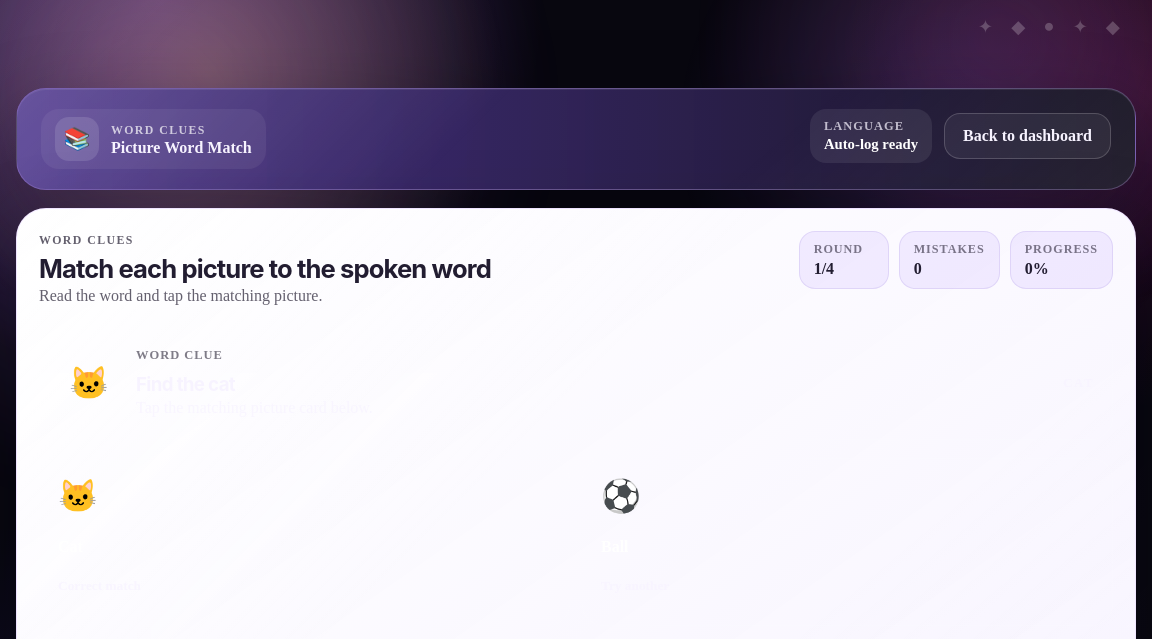
Test case: frontend smoke flows › opens the language game in a dedicated page and auto-logs on completion
Check: the text "Picture Word Match" is shown, box [111, 139, 252, 156]
Click the button "🐱 Cat Correct match".
click(78, 496)  # box [39, 458, 570, 626]
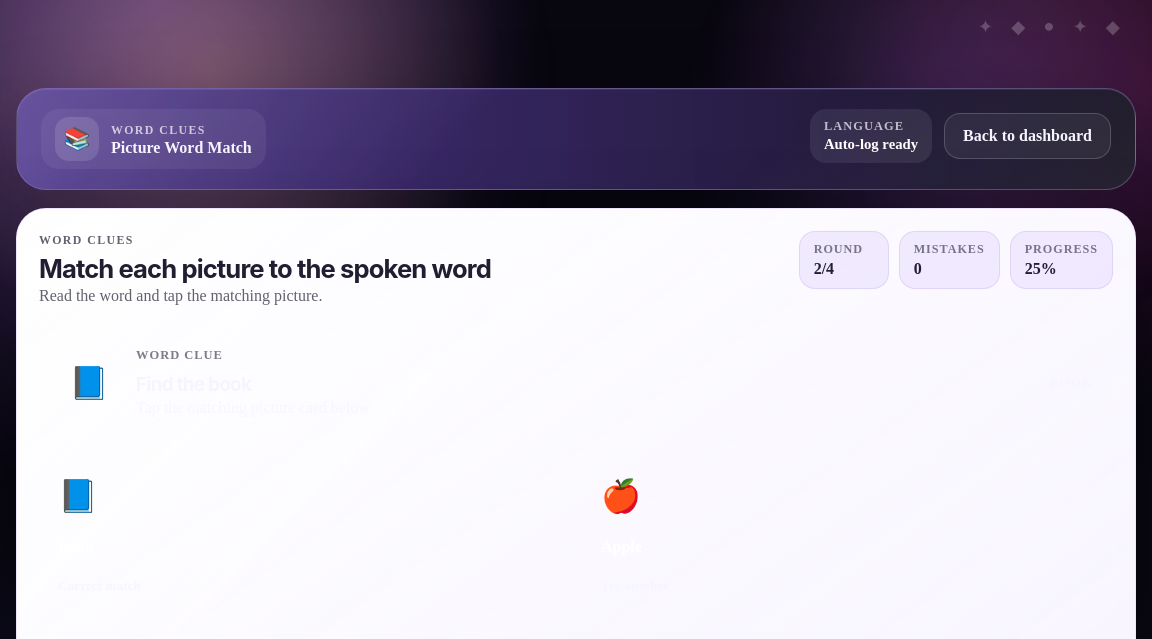
Click the button "📘 Book Correct match".
click(78, 496)  # box [39, 458, 570, 626]
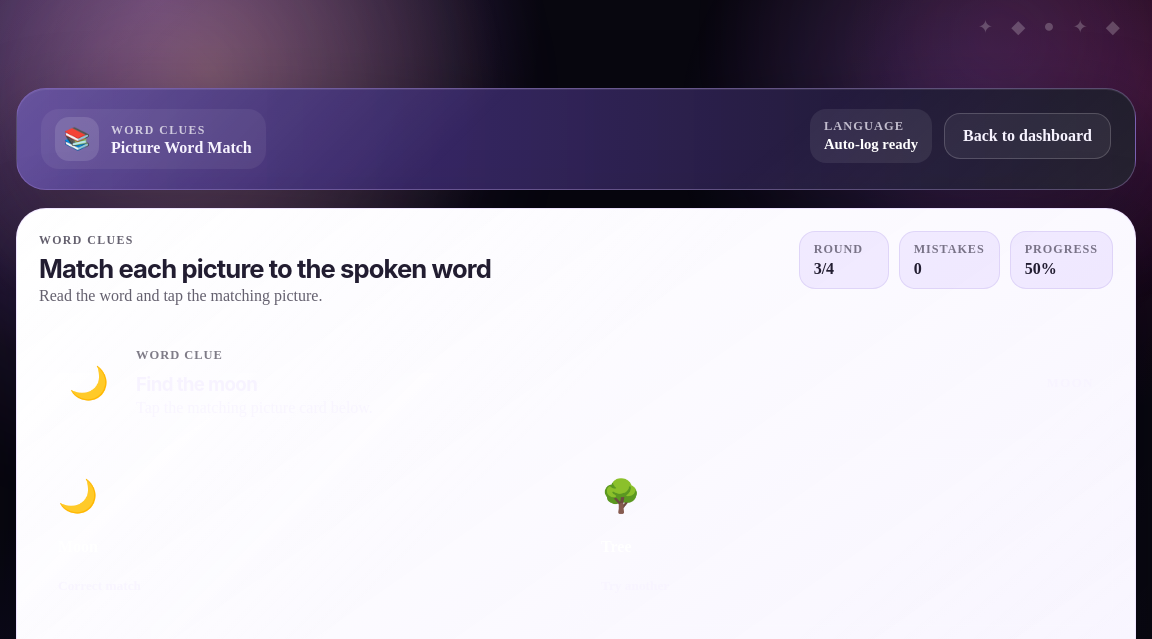
Click the button "🌙 Moon Correct match".
click(78, 496)  # box [39, 458, 570, 626]
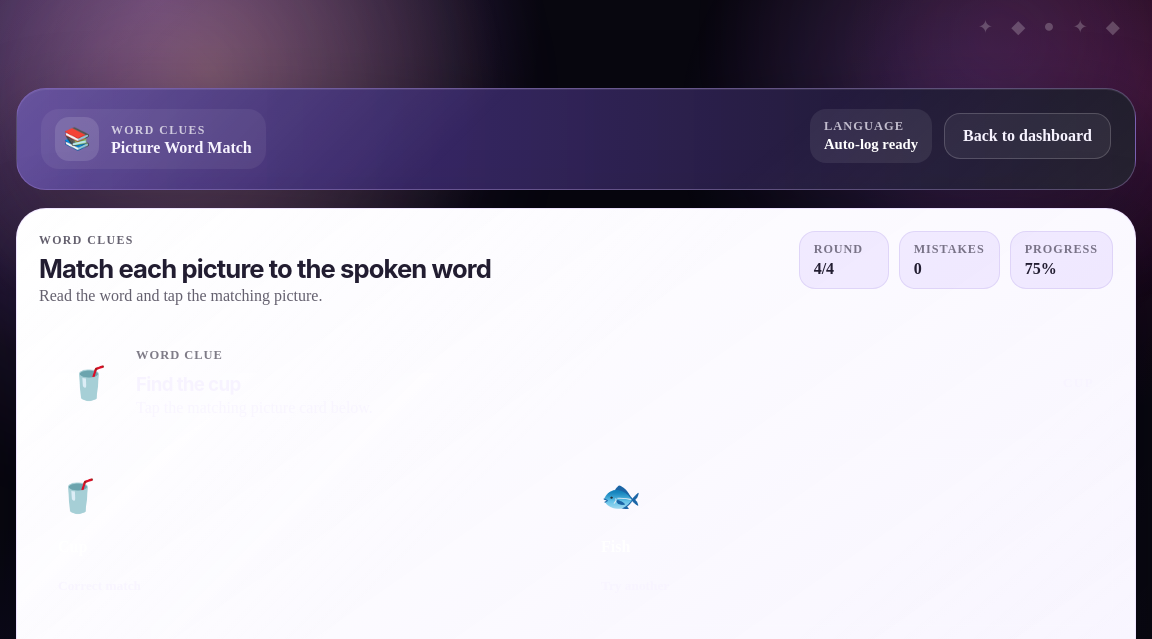
Click the button "🥤 Cup Correct match".
click(78, 496)  # box [39, 458, 570, 626]
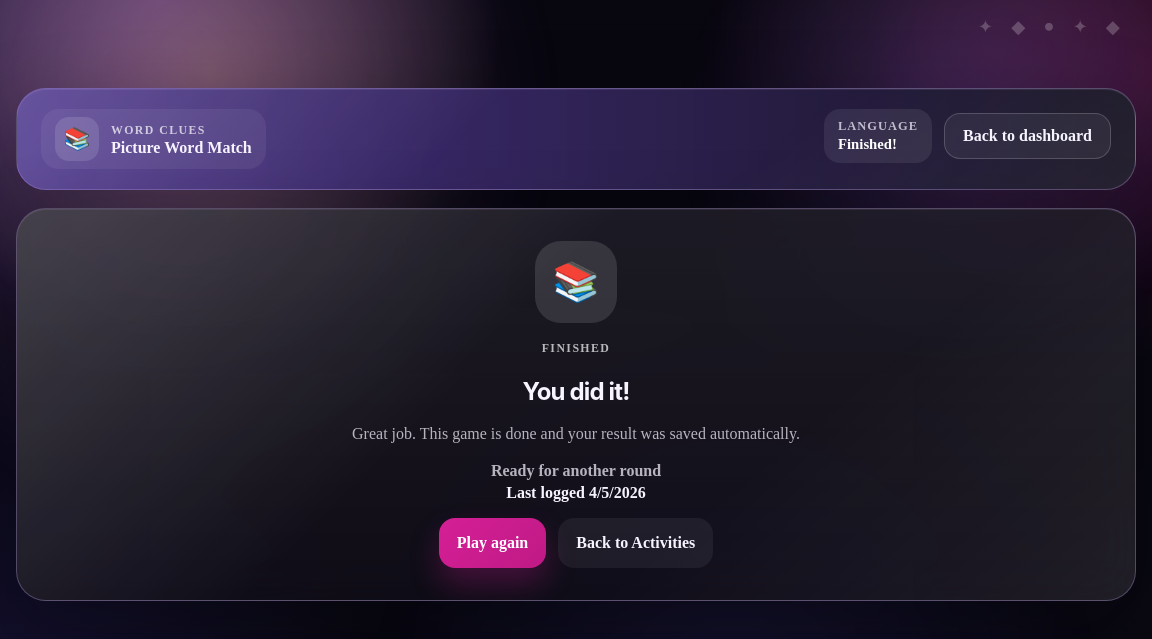
Check: the heading "You did it!" is shown, box [523, 376, 630, 406]
Check: the button "Play again" is shown, box [439, 518, 546, 568]
